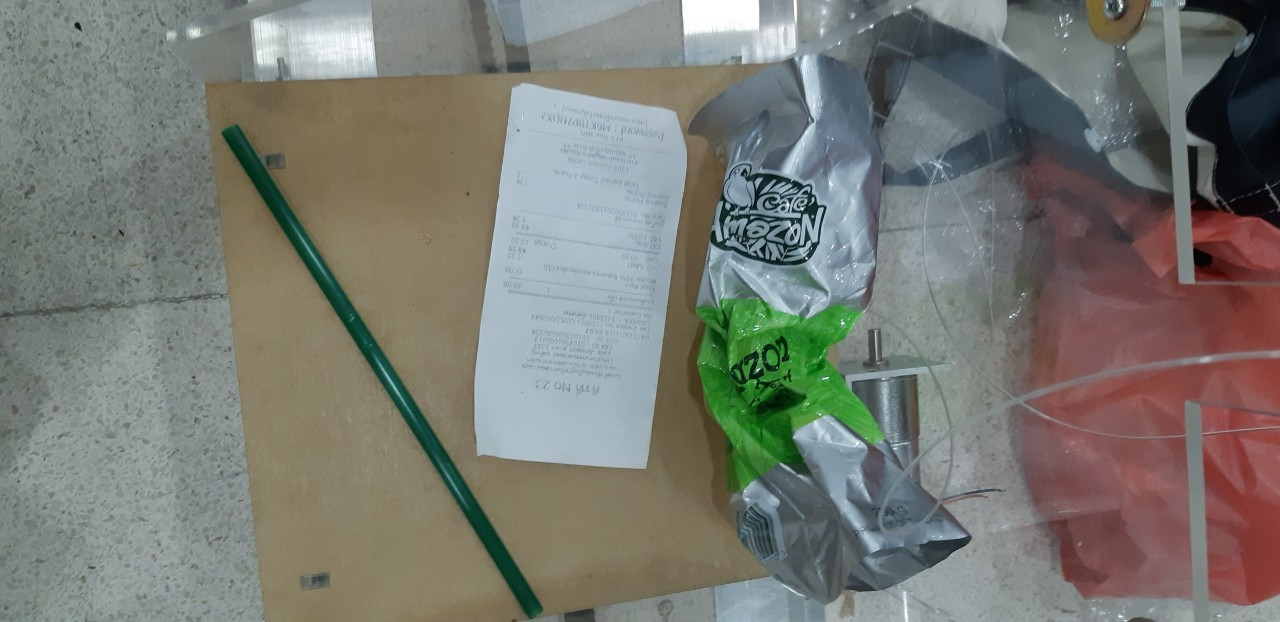Others: (686, 50, 976, 602), (222, 120, 544, 614), (469, 80, 686, 470)
